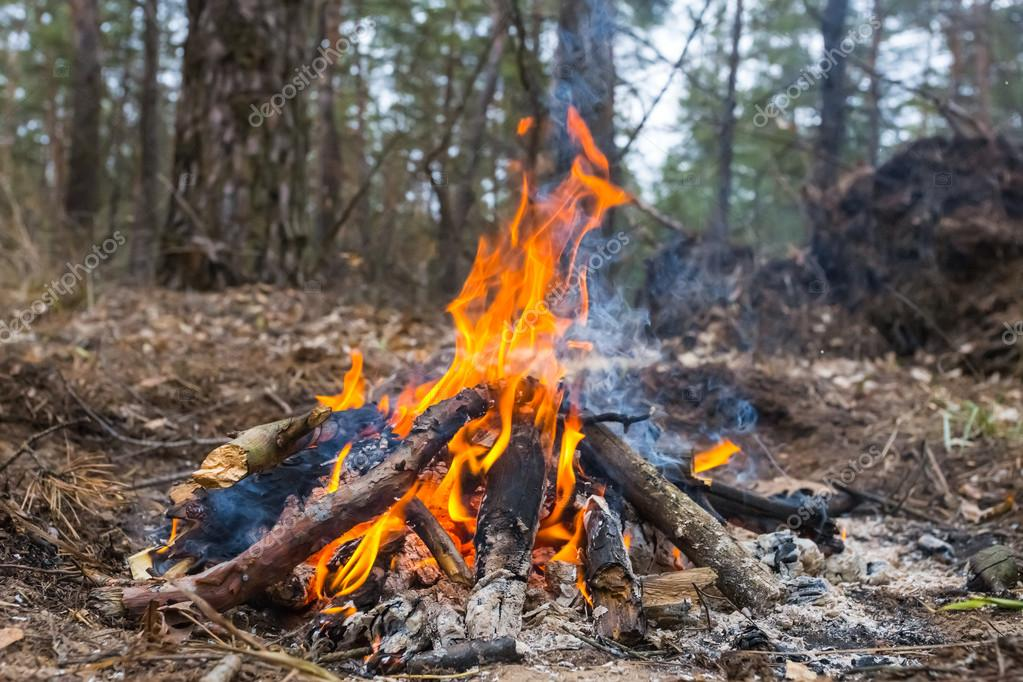fire: (260, 194, 812, 682)
